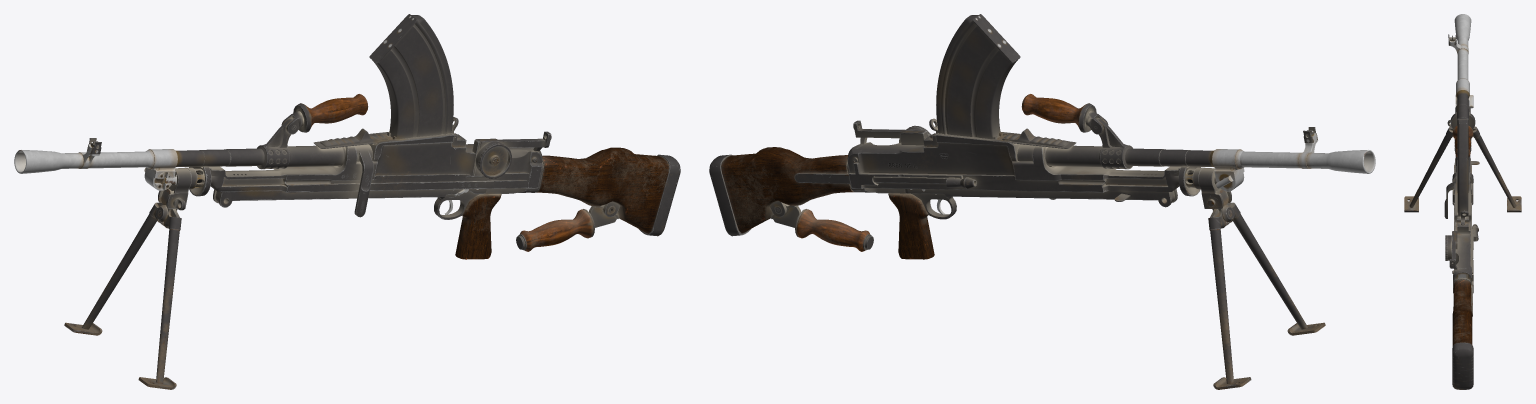
File: bren_mk1_lmg.glb
3 renders of one model, left to right at view 1: azimuth 30°, elevation 25°; view 2: azimuth 150°, elevation 25°; view 3: azimuth 270°, elevation 25°, orthographic. The views are drawn at different scales.
Visible parts, largest first — view 1: Tilted_14 - Default_0; view 2: Tilted_14 - Default_0; view 3: Tilted_14 - Default_0.
Boxes of the visible parts, x1=… form: Tilted_14 - Default_0: x1=14, y1=14, x2=680, y2=389; Tilted_14 - Default_0: x1=709, y1=14, x2=1375, y2=389; Tilted_14 - Default_0: x1=1404, y1=14, x2=1521, y2=389.
Bounding box in the file's own units: 1.5 × 0.6017 × 0.3354.
1 material, 1 textured.
